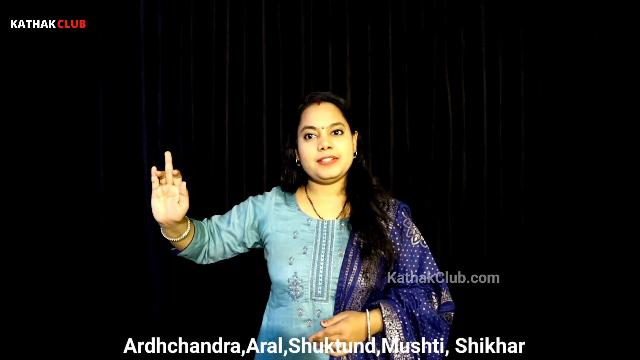shuktund: (134, 144, 210, 251)
